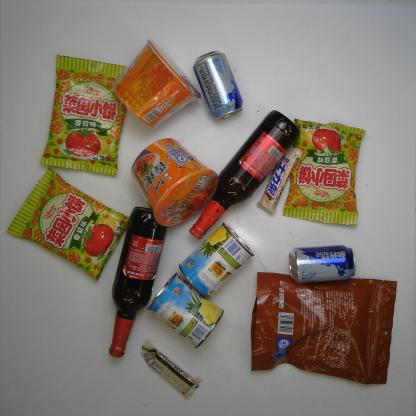Alcohol: (186, 108, 302, 240), (106, 206, 170, 360), (192, 48, 245, 123), (287, 242, 360, 288)
Canned Food: (146, 270, 224, 351), (178, 220, 255, 300)
Chocolate: (141, 336, 203, 404), (255, 138, 305, 216)
Dried Food: (248, 268, 399, 385)
Instant Noodles: (109, 38, 204, 133), (130, 136, 222, 230)
Puffed Food: (6, 164, 132, 280), (38, 53, 133, 176), (280, 115, 369, 231)
